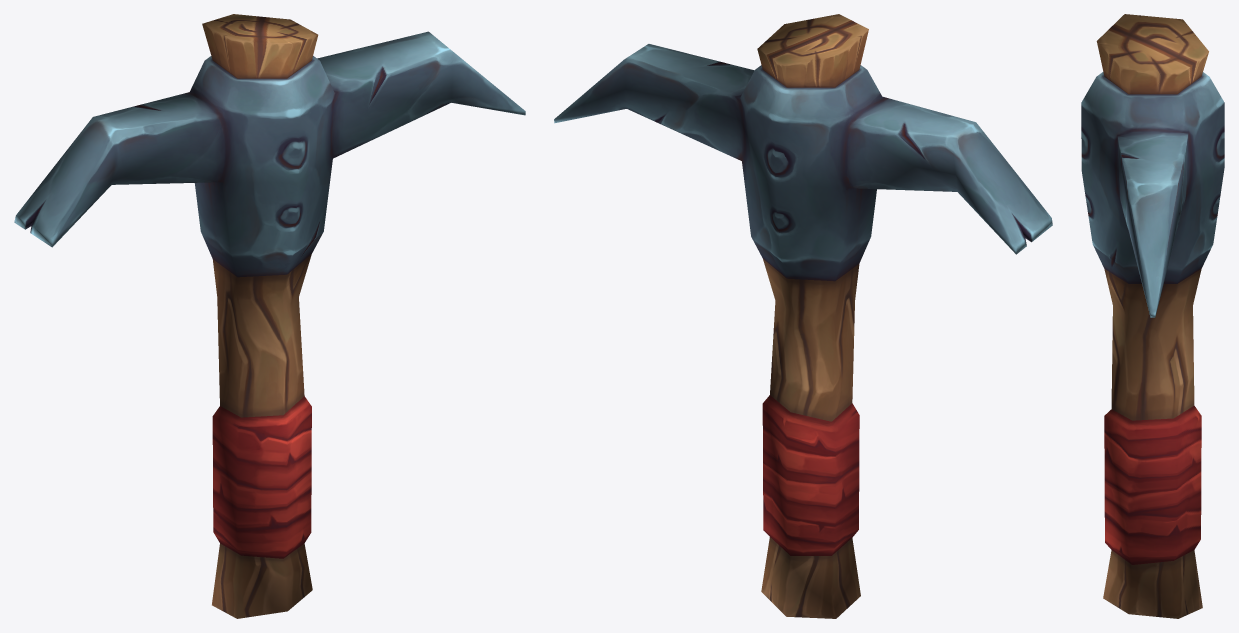
Rendered from Stylized_Pickaxe.glb.
3 views of the same model, side by side, from view 1: azimuth 30°, elevation 25°; view 2: azimuth 150°, elevation 25°; view 3: azimuth 270°, elevation 25° (orthographic). The views are drawn at different scales.
Parts seen in each view (by area): view 1: Pickaxe; view 2: Pickaxe; view 3: Pickaxe.
Part boxes in pixels (left/top/right/bottom): Pickaxe: left=14, top=14, right=525, bottom=618; Pickaxe: left=554, top=14, right=1052, bottom=618; Pickaxe: left=1081, top=14, right=1224, bottom=618.
Bounding box in the file's own units: 0.5199 × 0.593 × 0.1339.
1 material, 1 textured.
